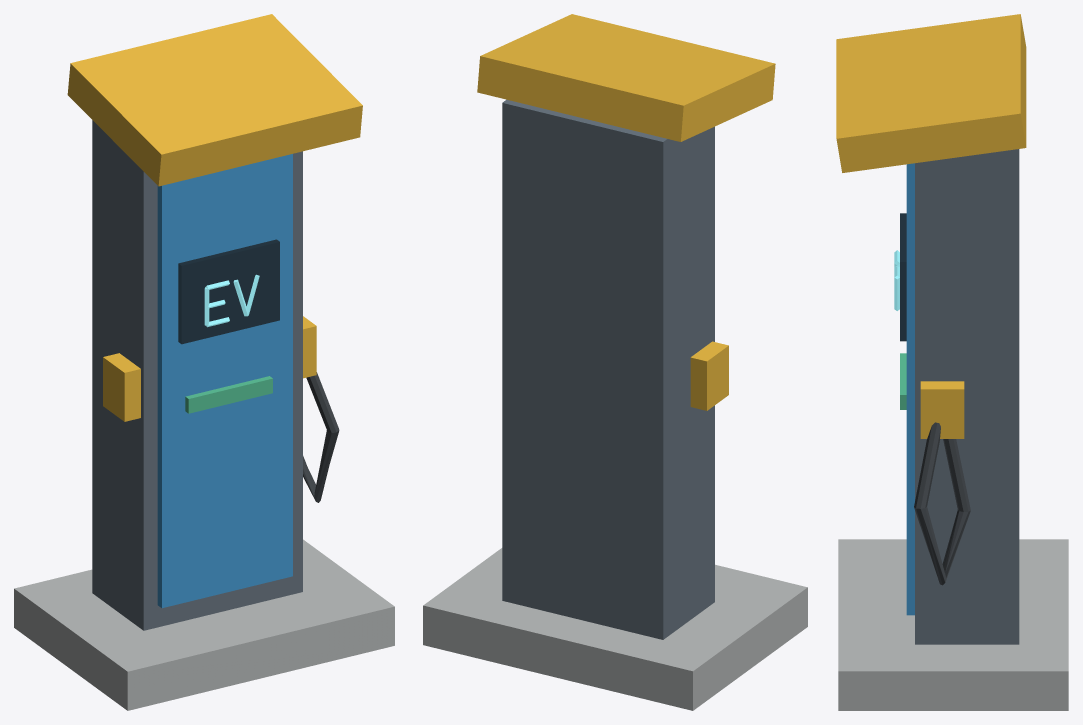
File: ENERGY-025.glb
3 renders of one model, left to right at view 1: azimuth 30°, elevation 25°; view 2: azimuth 150°, elevation 25°; view 3: azimuth 270°, elevation 25°, orthographic.
Parts seen in each view (by area): view 1: ENERGY-025; view 2: ENERGY-025; view 3: ENERGY-025.
Boxes of the visible parts, x1=… form: ENERGY-025: x1=14, y1=14, x2=394, y2=710; ENERGY-025: x1=423, y1=14, x2=807, y2=710; ENERGY-025: x1=836, y1=14, x2=1068, y2=710.
Size of the model in its own units: 1.14 by 2.34 by 0.8466.
